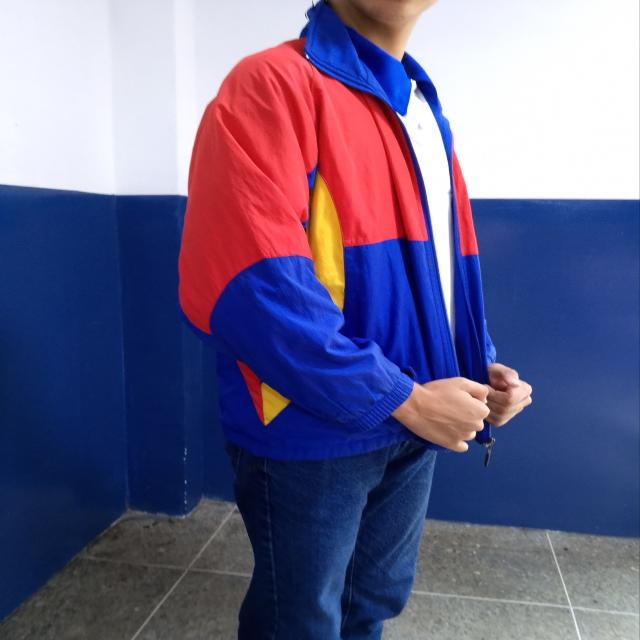chaqueta_unefa: (177, 0, 501, 466)
pantalon_oscuro: (228, 442, 441, 640)
